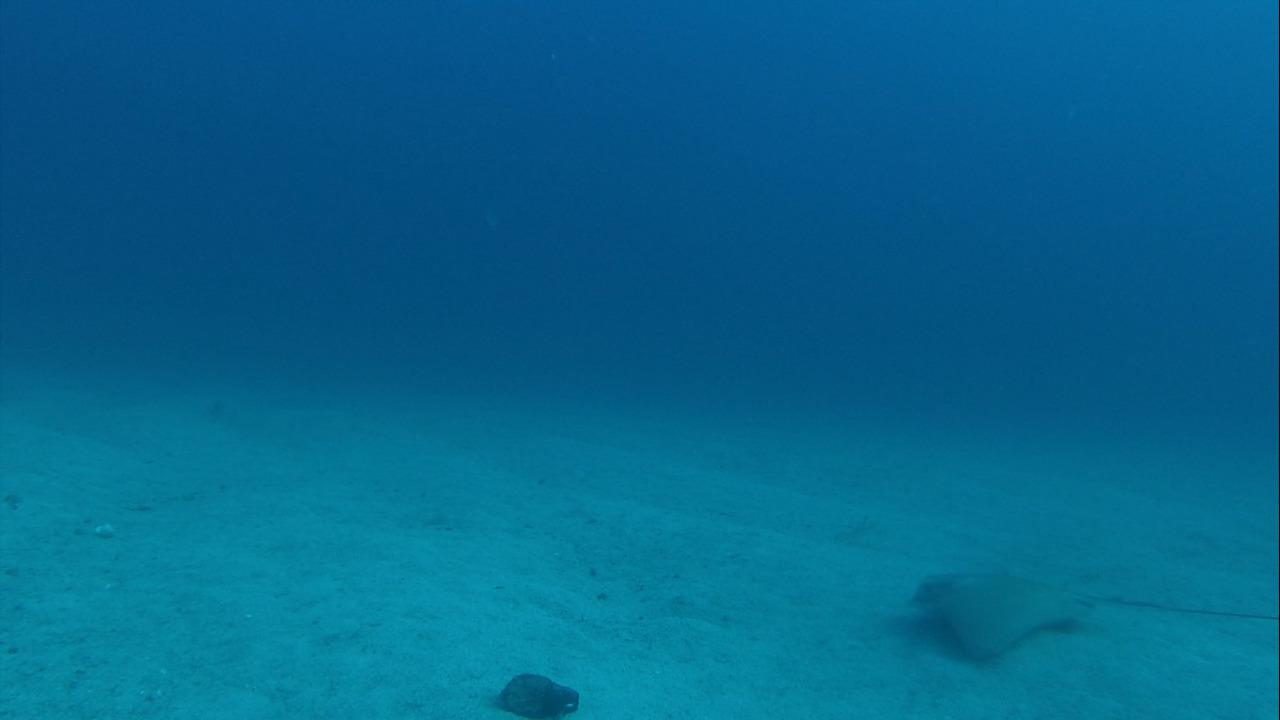myliobatis: (903, 565, 1279, 672)
